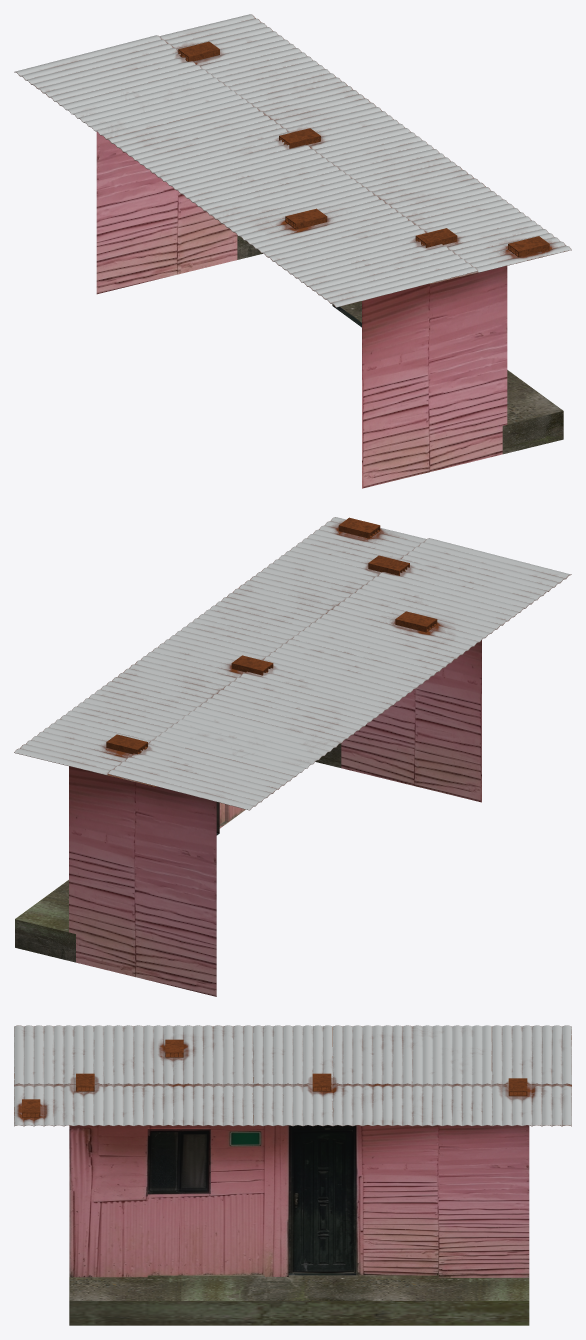
File: casaplano04.fbx
The picture shows the model from 3 angles, top to bottom: view 1: azimuth 30°, elevation 25°; view 2: azimuth 150°, elevation 25°; view 3: azimuth 270°, elevation 25°; orthographic projection. The views are drawn at different scales.
Parts seen in each view (by area): view 1: Techo 04, Casa 04.001; view 2: Techo 04, Casa 04.001; view 3: Casa 04.001, Techo 04.
Part boxes in pixels (<box>): Techo 04: <box>14,14,571,307</box>; Casa 04.001: <box>96,132,563,488</box>; Techo 04: <box>14,517,571,810</box>; Casa 04.001: <box>15,640,481,996</box>; Casa 04.001: <box>69,1125,529,1325</box>; Techo 04: <box>14,1025,571,1126</box>.
Bounding box in the file's own units: 423 × 353 × 908.
